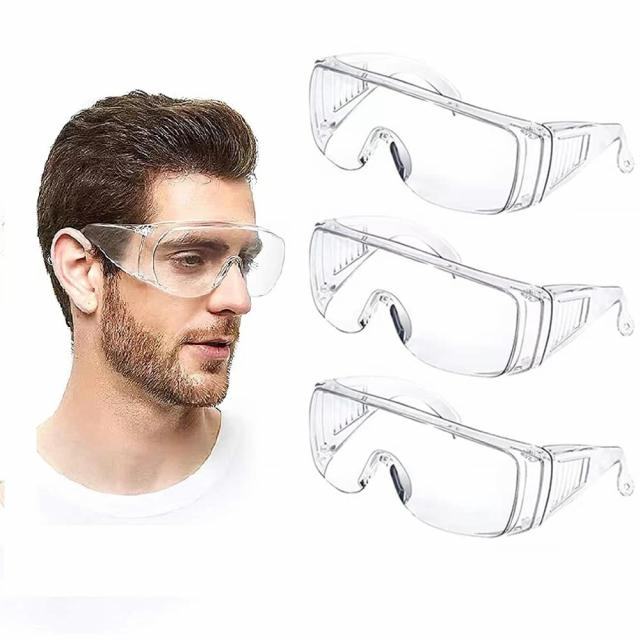Protective Glasses: (293, 37, 639, 214), (302, 382, 636, 540), (304, 220, 639, 376), (33, 210, 290, 307)
